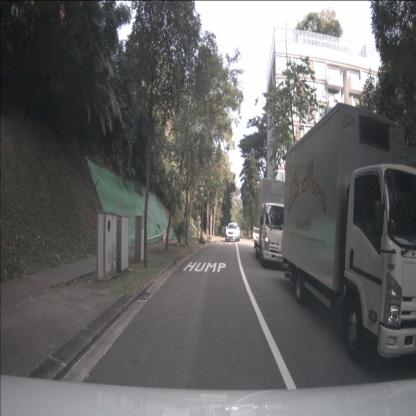movable_object-trafficcone: (162, 228, 166, 244)
vehicle-car: (225, 222, 240, 242)
vehicle-truck: (281, 102, 416, 363), (252, 178, 298, 268)
